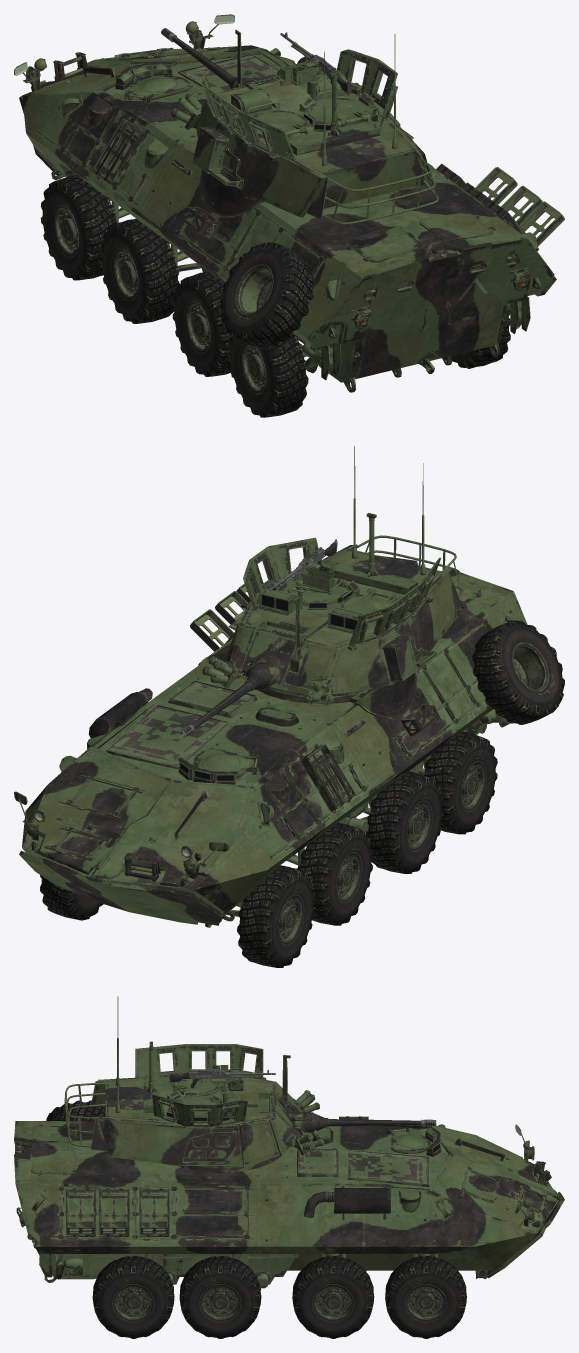
The model's file is lav25.glb.
The picture shows the model from 3 angles, top to bottom: view 1: azimuth 30°, elevation 25°; view 2: azimuth 150°, elevation 25°; view 3: azimuth 270°, elevation 25°; orthographic projection. The views are drawn at different scales.
Visible parts, largest first — view 1: V_lav25; view 2: V_lav25; view 3: V_lav25.
Boxes of the visible parts, bbox=[...] form: V_lav25: bbox=[14, 14, 564, 417]; V_lav25: bbox=[14, 446, 564, 967]; V_lav25: bbox=[14, 996, 564, 1338].
Size of the model in its own units: 9.46 by 9.99 by 17.89.
Materials: 8 (8 with a texture image).
